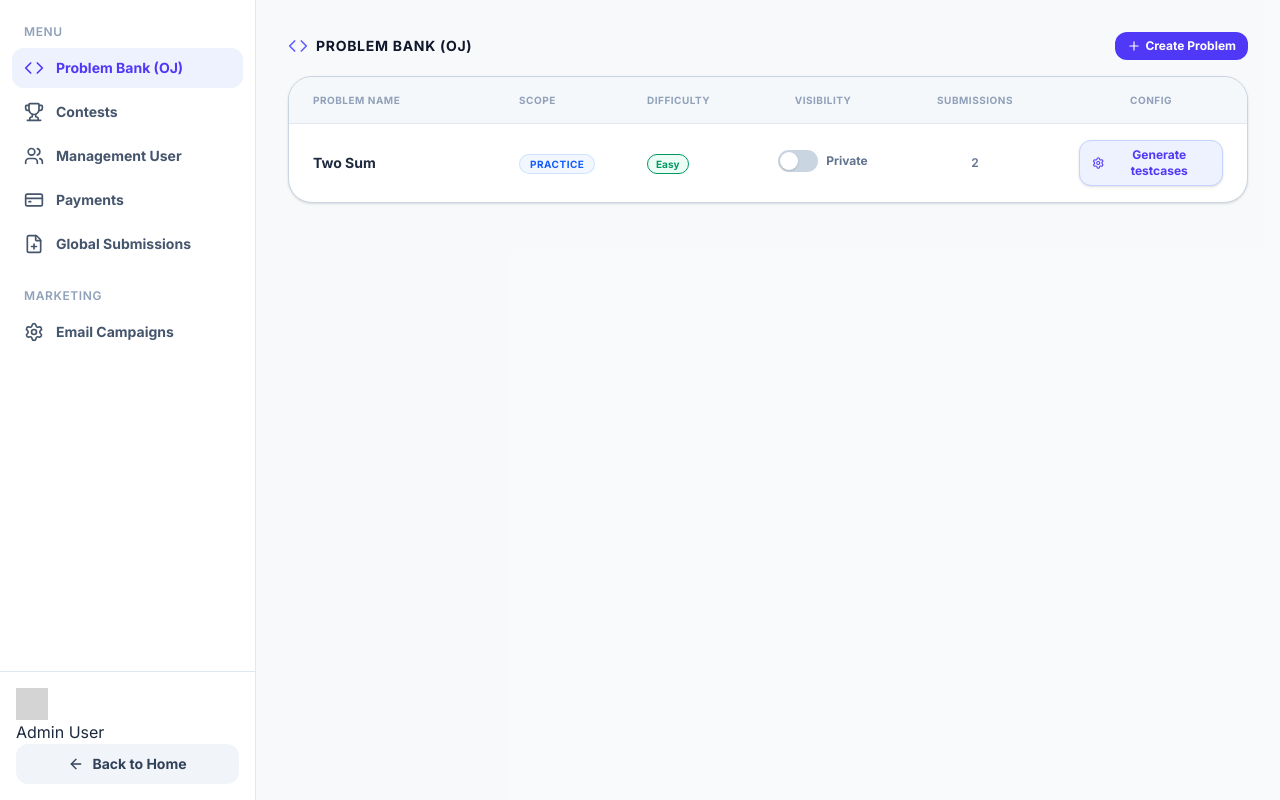
Scenario: Admin dashboard › keeps problem visibility and testcase navigation working
The width and height of the screenshot is (1280, 800).
Expected: the text "Two Sum" is shown, [289, 124, 495, 202]
Click the button "Private". click: (823, 161)
box: [778, 150, 868, 172]
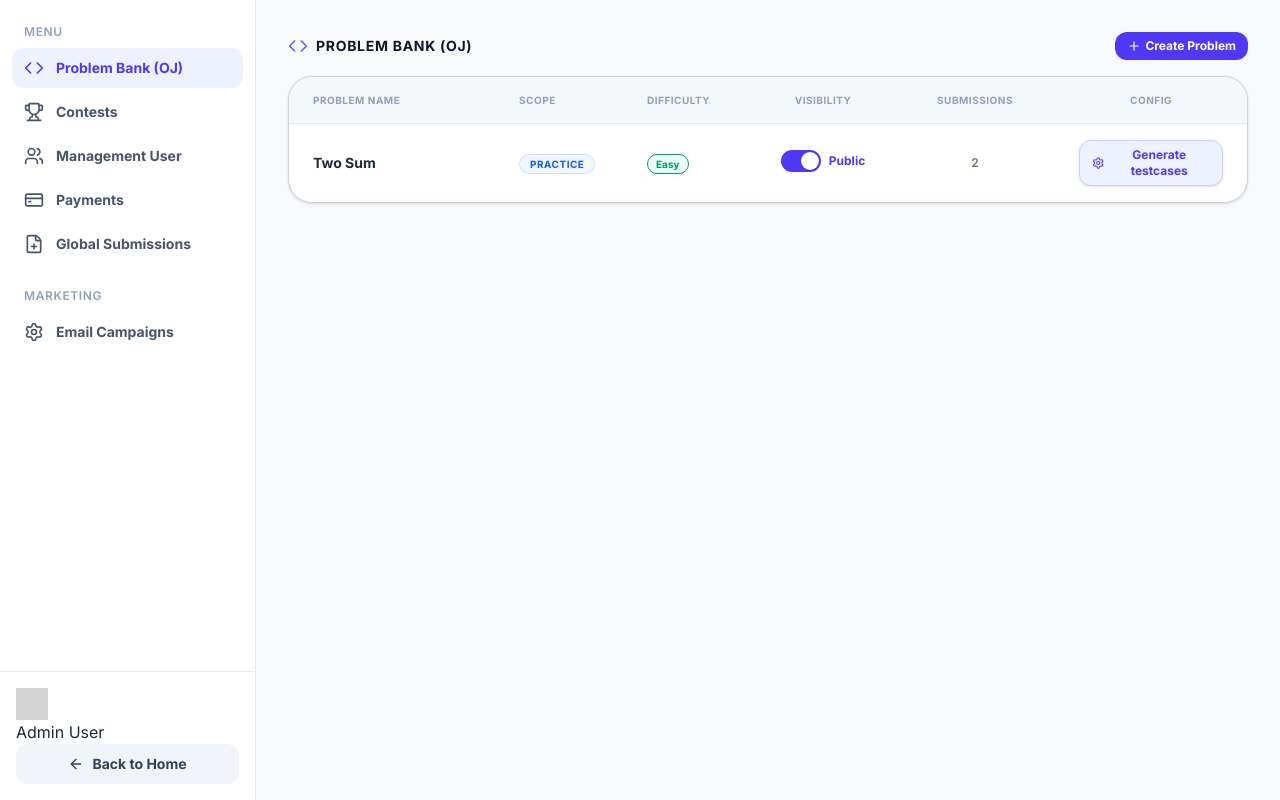
Expected: the button "Public" is shown, [781, 150, 865, 172]
